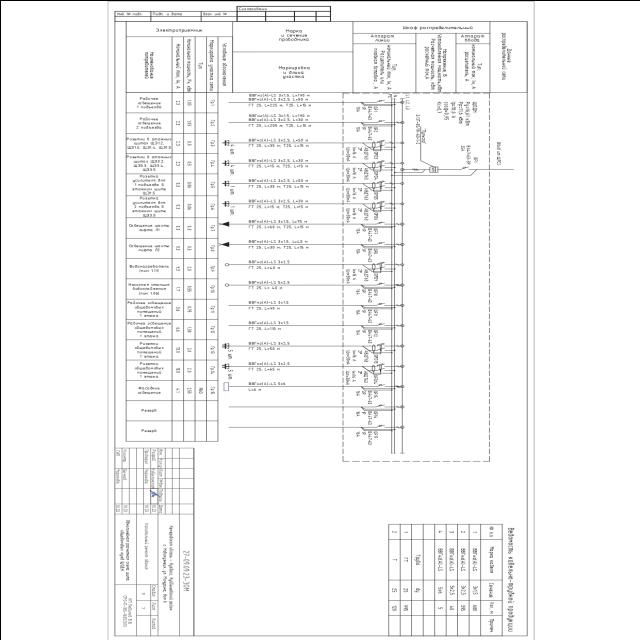-: (413, 113, 426, 145), (343, 206, 368, 222), (343, 166, 368, 182), (344, 349, 368, 364), (344, 186, 368, 201), (344, 268, 368, 283), (343, 370, 368, 384), (344, 146, 368, 160), (353, 105, 372, 120), (353, 125, 372, 140), (354, 429, 372, 444), (354, 288, 372, 302), (354, 410, 372, 424), (354, 248, 372, 262), (354, 228, 372, 242), (354, 308, 372, 322), (354, 390, 372, 404), (354, 329, 372, 343), (459, 144, 471, 164), (470, 100, 478, 114)
QF: (458, 164, 471, 170), (374, 402, 386, 407), (374, 423, 386, 428), (374, 382, 386, 386), (376, 322, 388, 326), (374, 281, 386, 285), (374, 220, 386, 224), (374, 240, 386, 244), (376, 301, 388, 305), (375, 99, 387, 102), (374, 119, 386, 122)
QFD: (370, 179, 388, 191), (370, 138, 387, 150), (371, 159, 388, 171), (370, 362, 387, 374), (370, 342, 387, 354), (371, 260, 388, 272), (370, 200, 387, 212)
WH: (428, 166, 438, 172)
